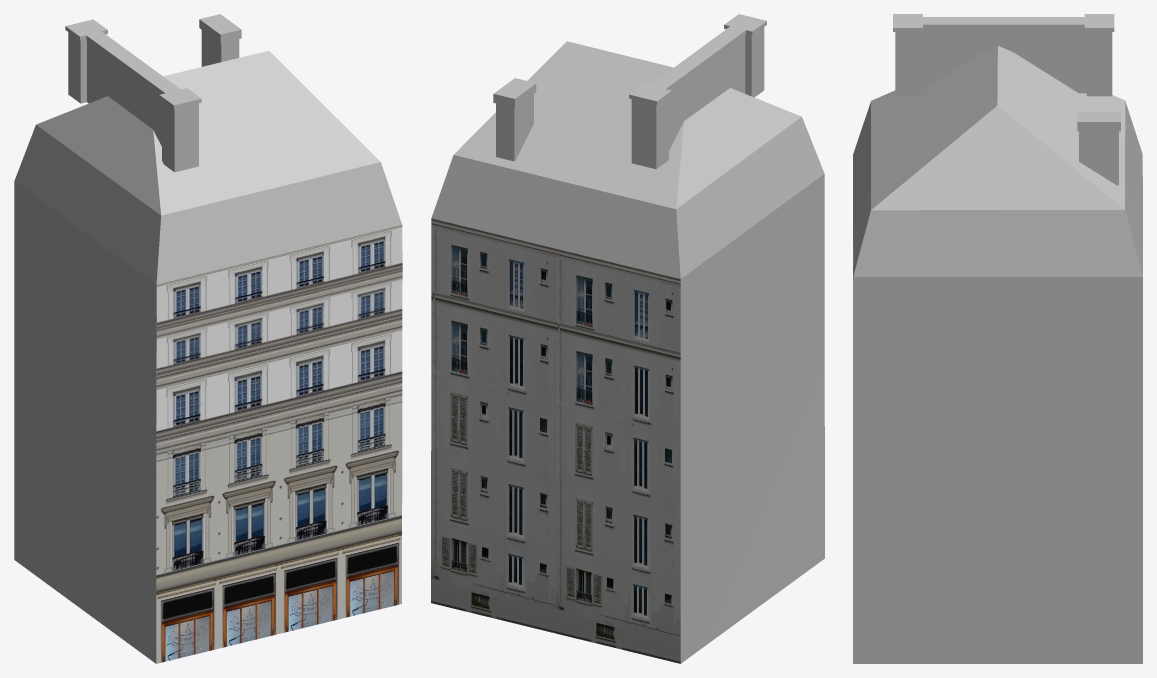
File: LOD01_Builiding_ParisWhite.obj
3 renders of one model, left to right at view 1: azimuth 30°, elevation 25°; view 2: azimuth 150°, elevation 25°; view 3: azimuth 270°, elevation 25°, orthographic. The views are drawn at different scales.
Parts seen in each view (by area): view 1: LOD01_Builiding_ParisWhite; view 2: LOD01_Builiding_ParisWhite; view 3: LOD01_Builiding_ParisWhite.
Boxes of the visible parts, box(x1,y1,x2,y2) form: LOD01_Builiding_ParisWhite: box(14, 14, 402, 663); LOD01_Builiding_ParisWhite: box(431, 14, 824, 663); LOD01_Builiding_ParisWhite: box(853, 14, 1142, 663).
Size of the model in its own units: 3.91 by 8.11 by 3.9.
